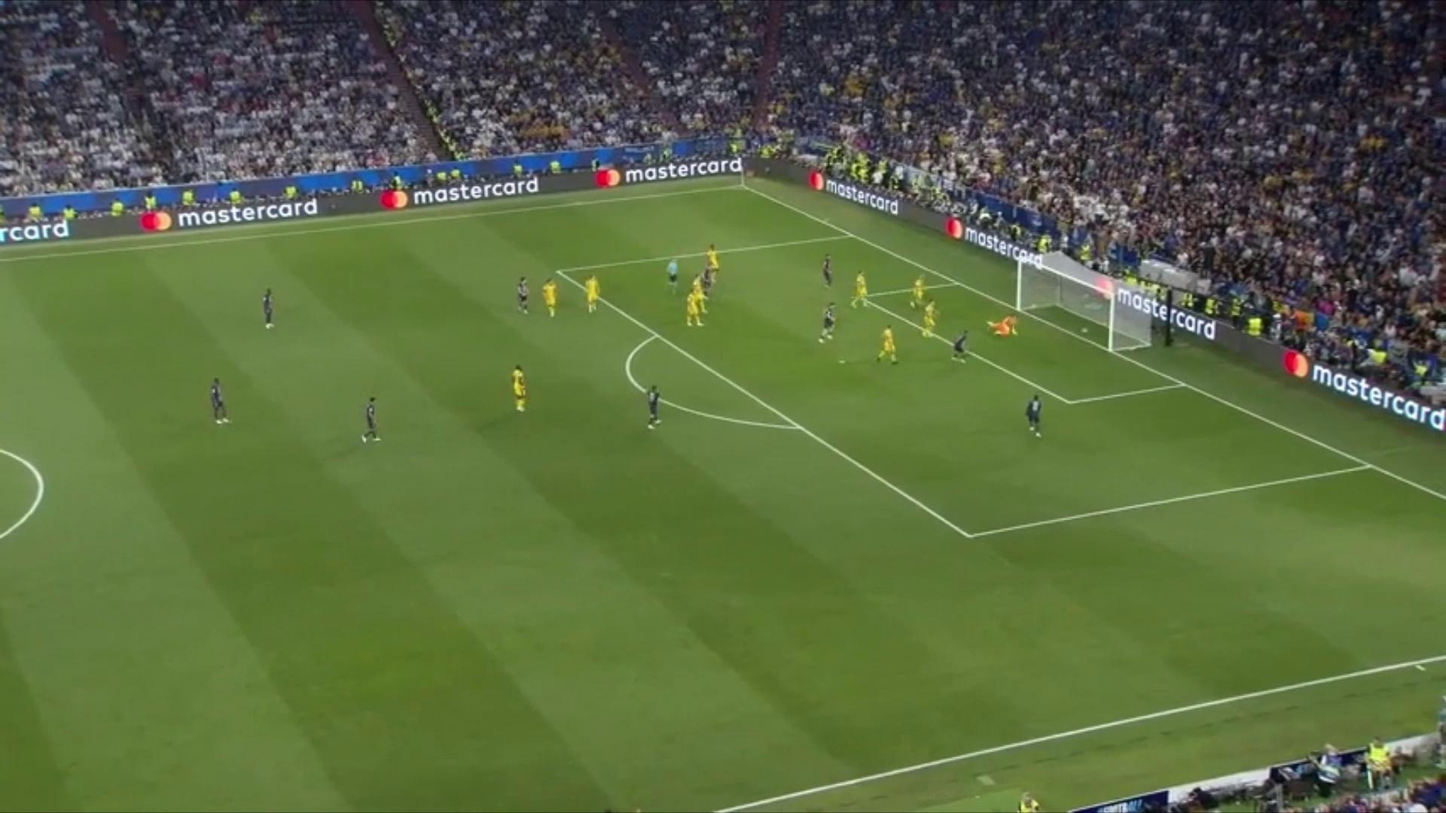ball: (1080, 324, 1090, 333)
player_A: (360, 396, 383, 444), (209, 376, 231, 425), (1023, 392, 1044, 438), (645, 383, 663, 431), (817, 302, 837, 345), (950, 329, 971, 365), (514, 275, 532, 316), (261, 287, 276, 330), (702, 263, 715, 299), (821, 254, 834, 288)
player_B: (875, 323, 899, 366), (511, 364, 528, 413), (850, 269, 870, 309), (583, 274, 602, 315), (920, 299, 939, 339), (541, 277, 559, 318), (692, 274, 709, 314), (685, 288, 702, 327), (909, 274, 927, 309), (706, 243, 721, 279)
player_B_goal_keeper: (984, 312, 1022, 342)
referee: (666, 253, 679, 297)
